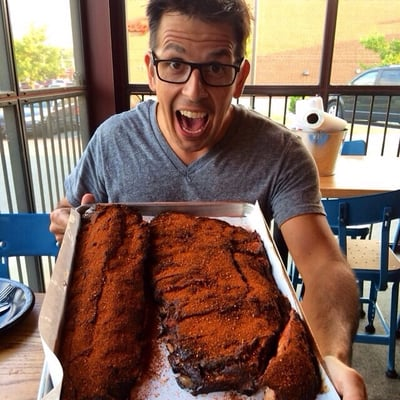pasta: (0, 213, 58, 293)
